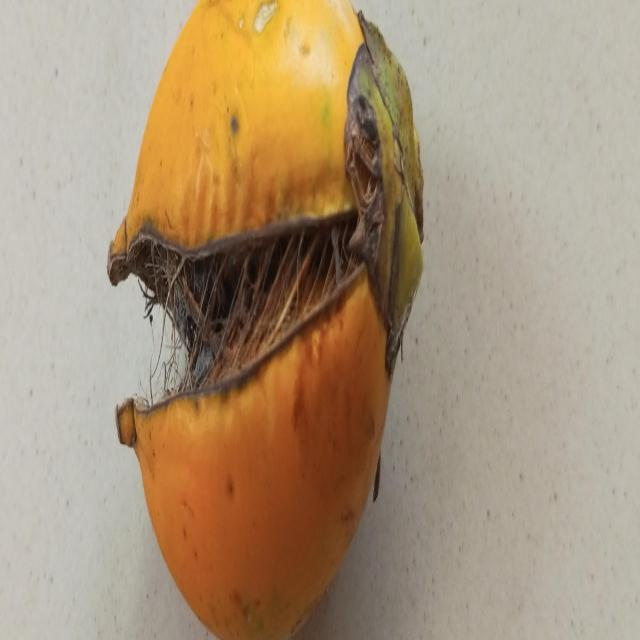damaged: (106, 0, 424, 640)
